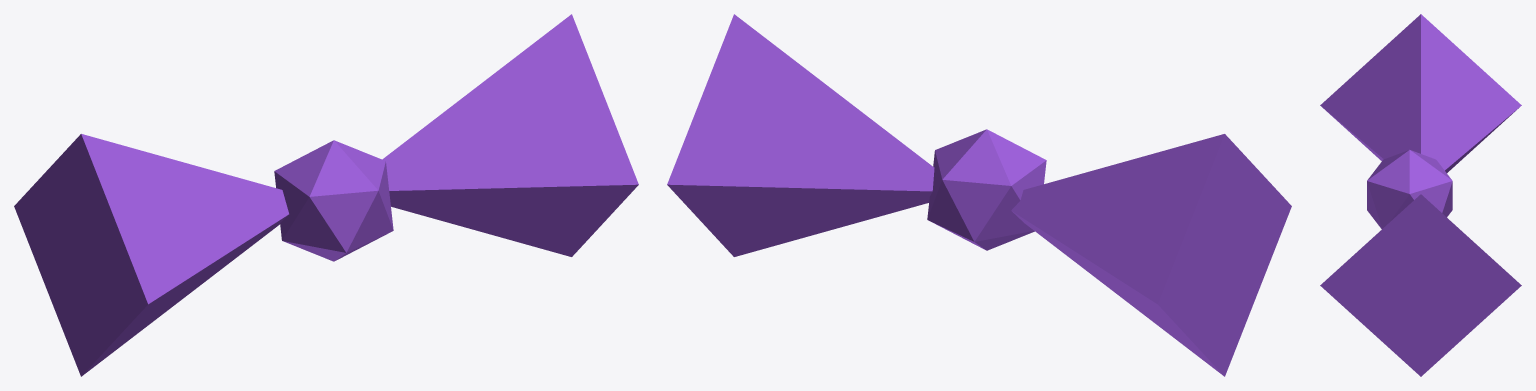
The model's file is bow_tie.glb.
3 views of the same model, side by side, from view 1: azimuth 30°, elevation 25°; view 2: azimuth 150°, elevation 25°; view 3: azimuth 270°, elevation 25° (orthographic). The views are drawn at different scales.
Visible parts, largest first — view 1: bow_tie; view 2: bow_tie; view 3: bow_tie.
Part boxes in pixels (box(x1,y1,x2,y2)): bow_tie: box(14, 14, 638, 376); bow_tie: box(667, 14, 1291, 376); bow_tie: box(1320, 14, 1521, 376).
Bounding box in the file's own units: 0.38 × 0.18 × 0.18.
